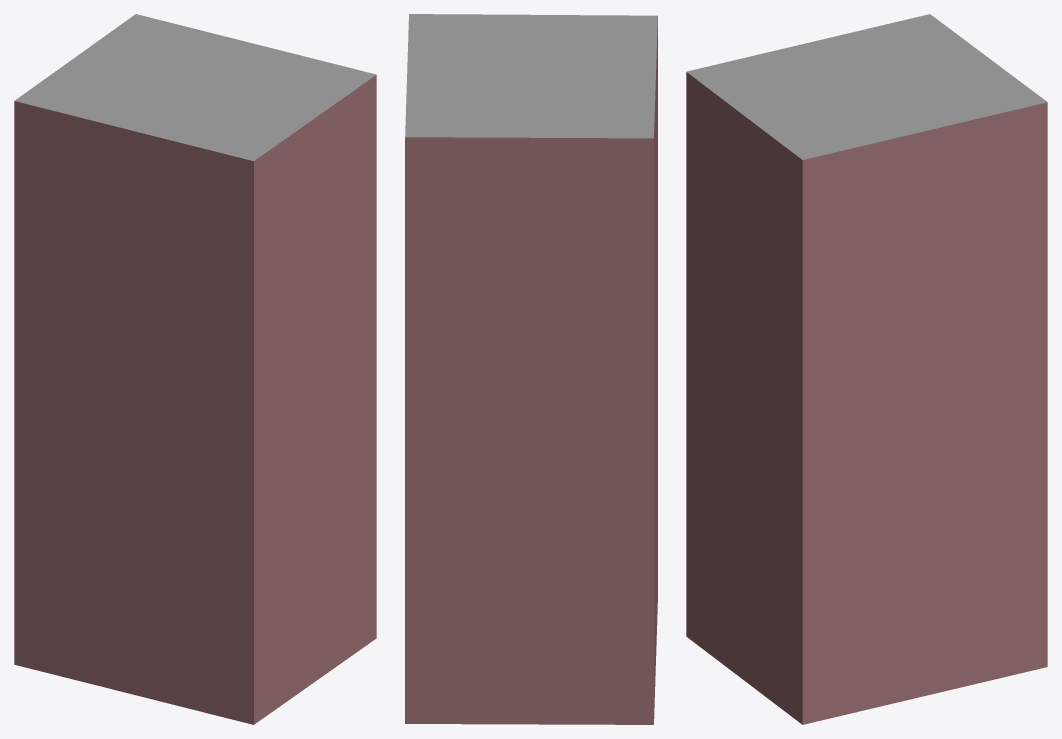
File: nyc-1080610-0.glb
The picture shows the model from 3 angles, left to right: view 1: azimuth 30°, elevation 25°; view 2: azimuth 150°, elevation 25°; view 3: azimuth 270°, elevation 25°; orthographic projection. The views are drawn at different scales.
Visible parts, largest first — view 1: nyc-1080610-0; view 2: nyc-1080610-0; view 3: nyc-1080610-0.
Part boxes in pixels (left/top/right/bottom): nyc-1080610-0: left=14, top=14, right=376, bottom=724; nyc-1080610-0: left=405, top=14, right=657, bottom=724; nyc-1080610-0: left=686, top=14, right=1047, bottom=724.
Bounding box in the file's own units: 44.83 × 80.77 × 46.86.
